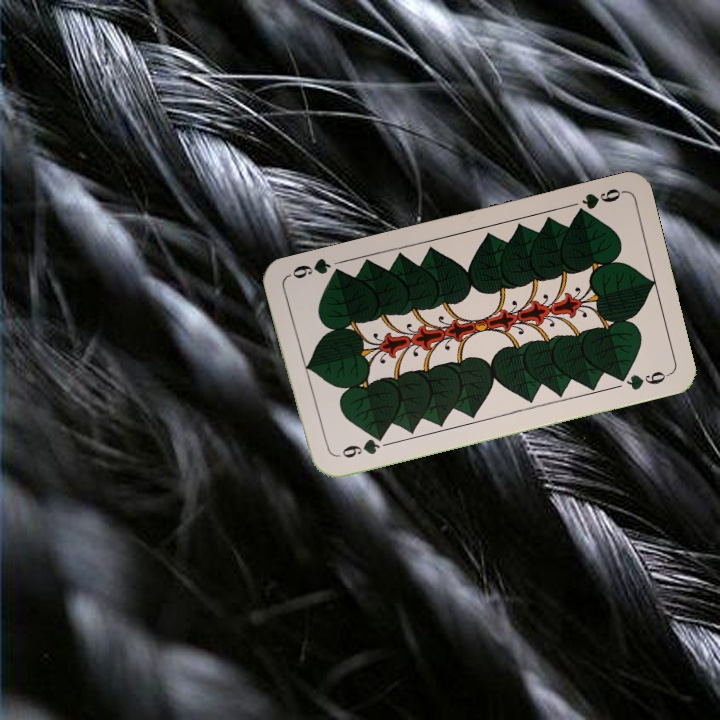G9: (571, 184, 626, 219), (331, 431, 390, 461)
